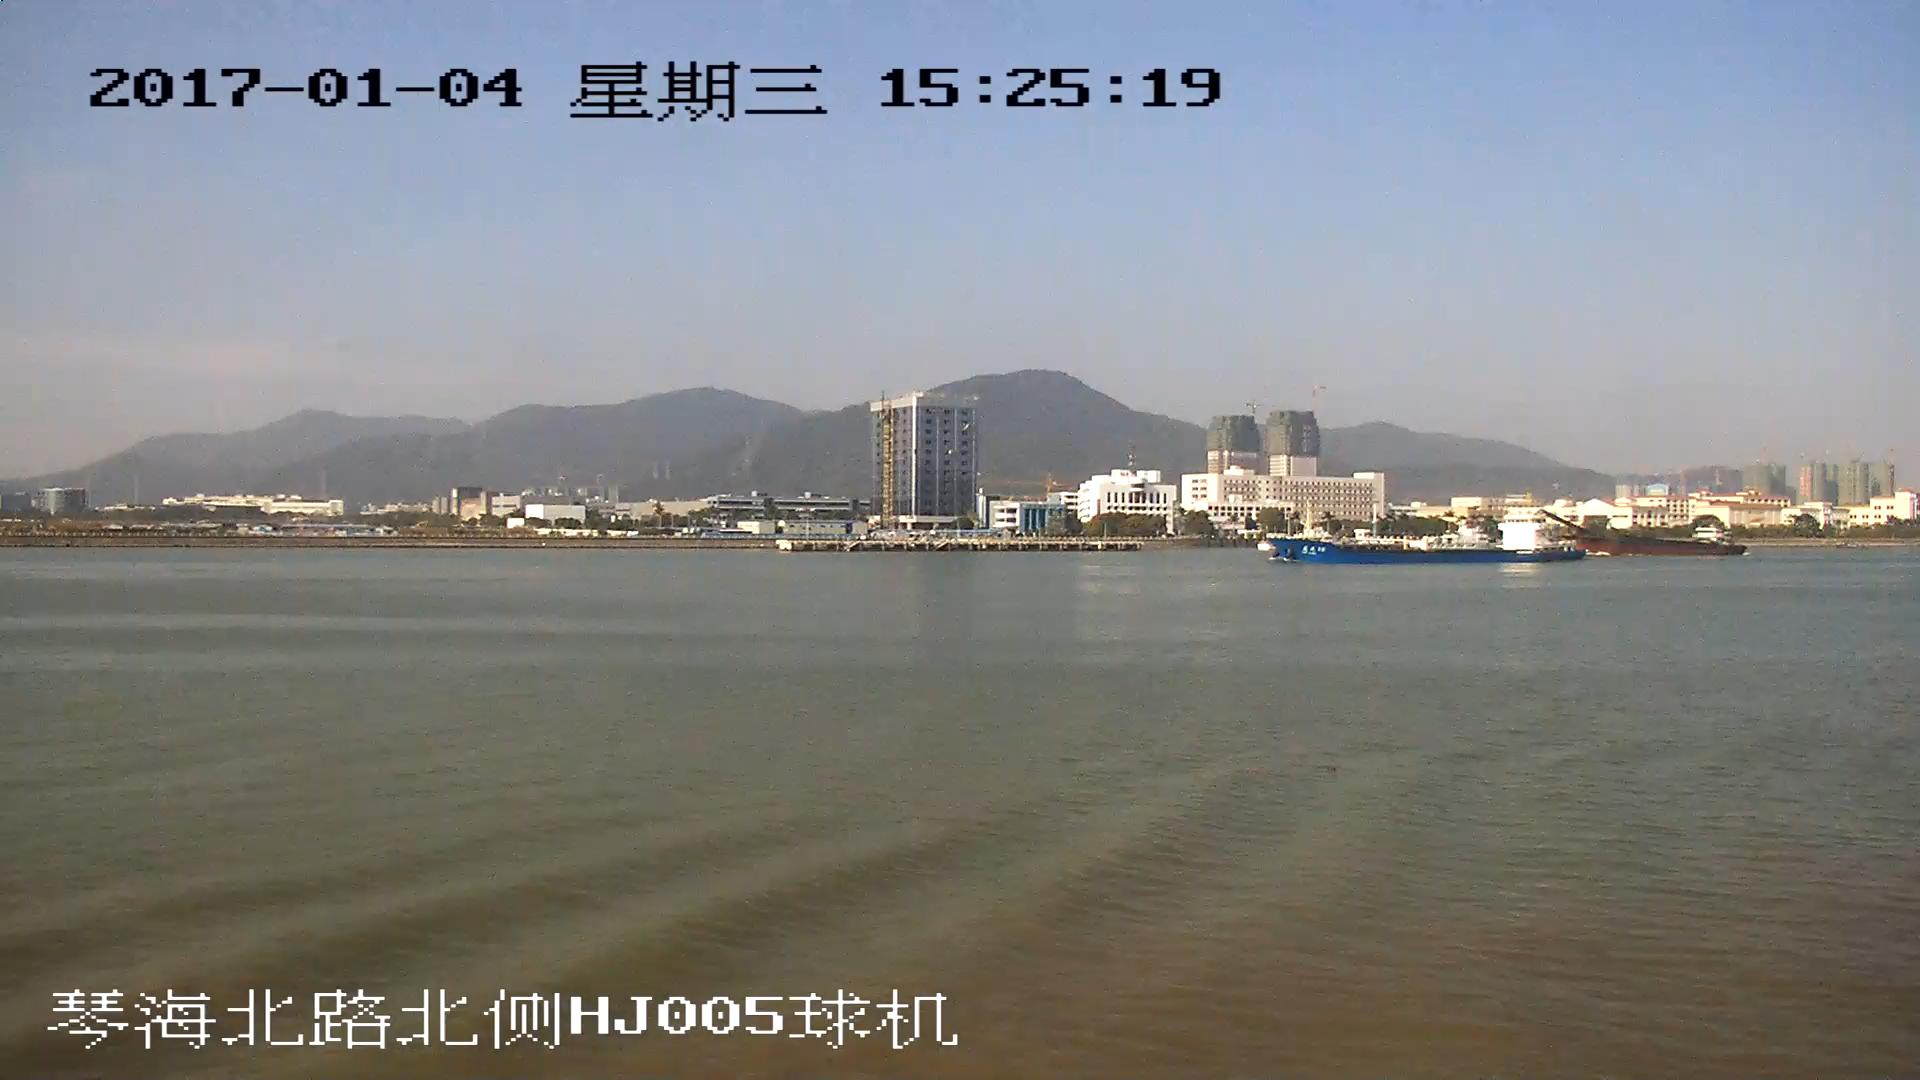bulk cargo carrier: (1551, 510, 1740, 553)
general cargo ship: (1263, 515, 1579, 567)
